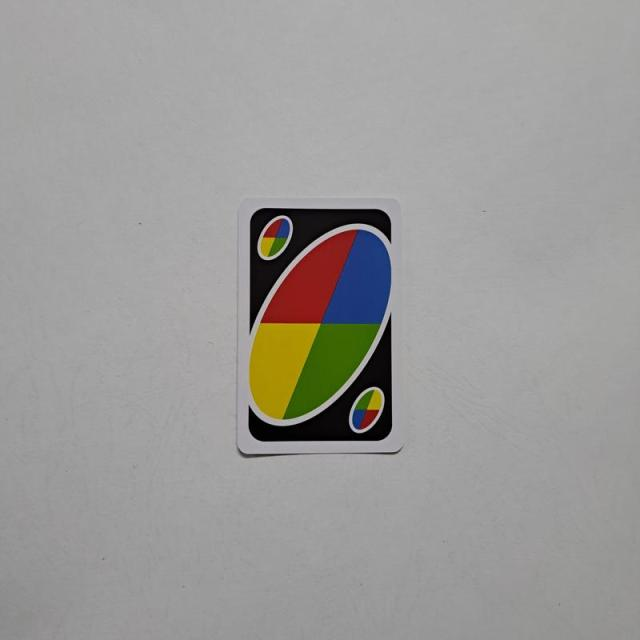Change_Color: (244, 202, 398, 448)
